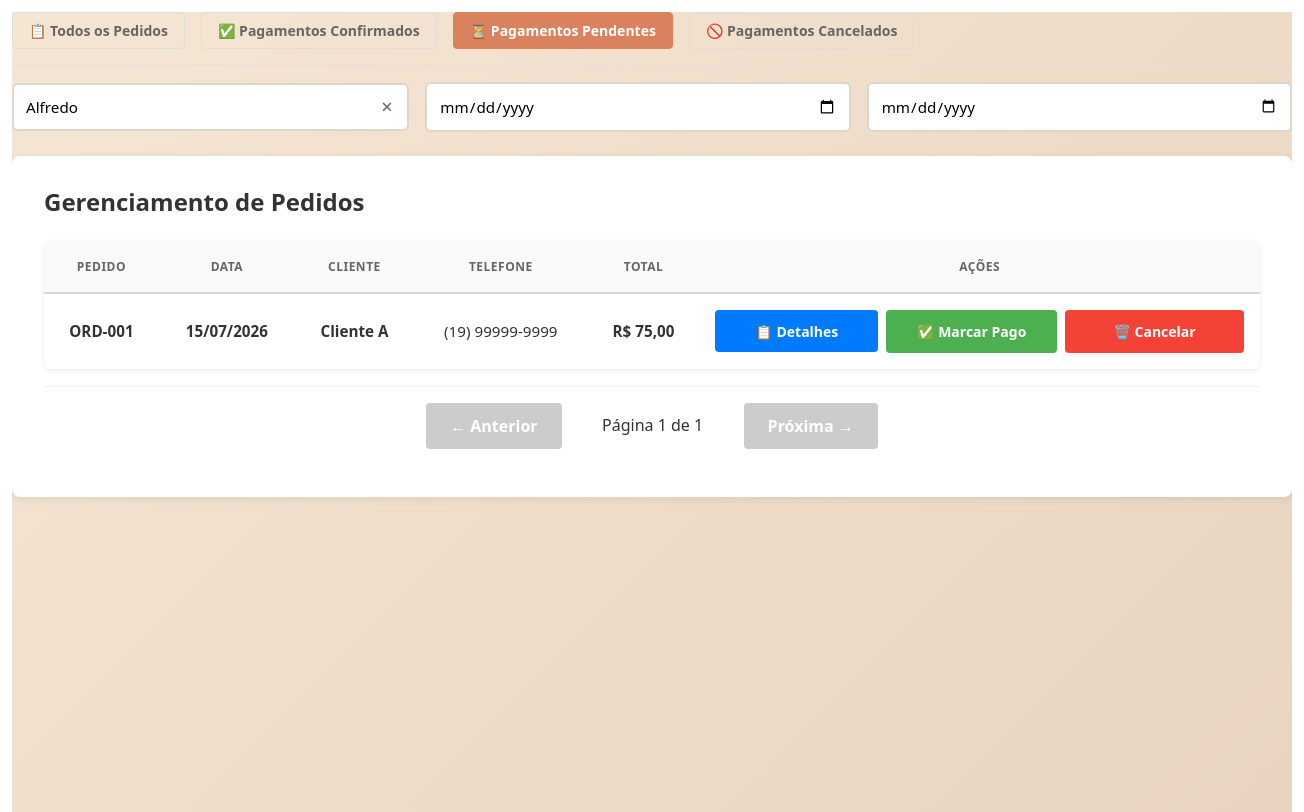
AdminOrdersPanel security and cancelled behavior › abre com pendentes e permite limpar o apelido preenchido
Expected: the field showing "Alfredo" is shown, [12,83,409,131]
Click the button named "Limpar pesquisa de cliente": (387, 107) [375,95,399,119]
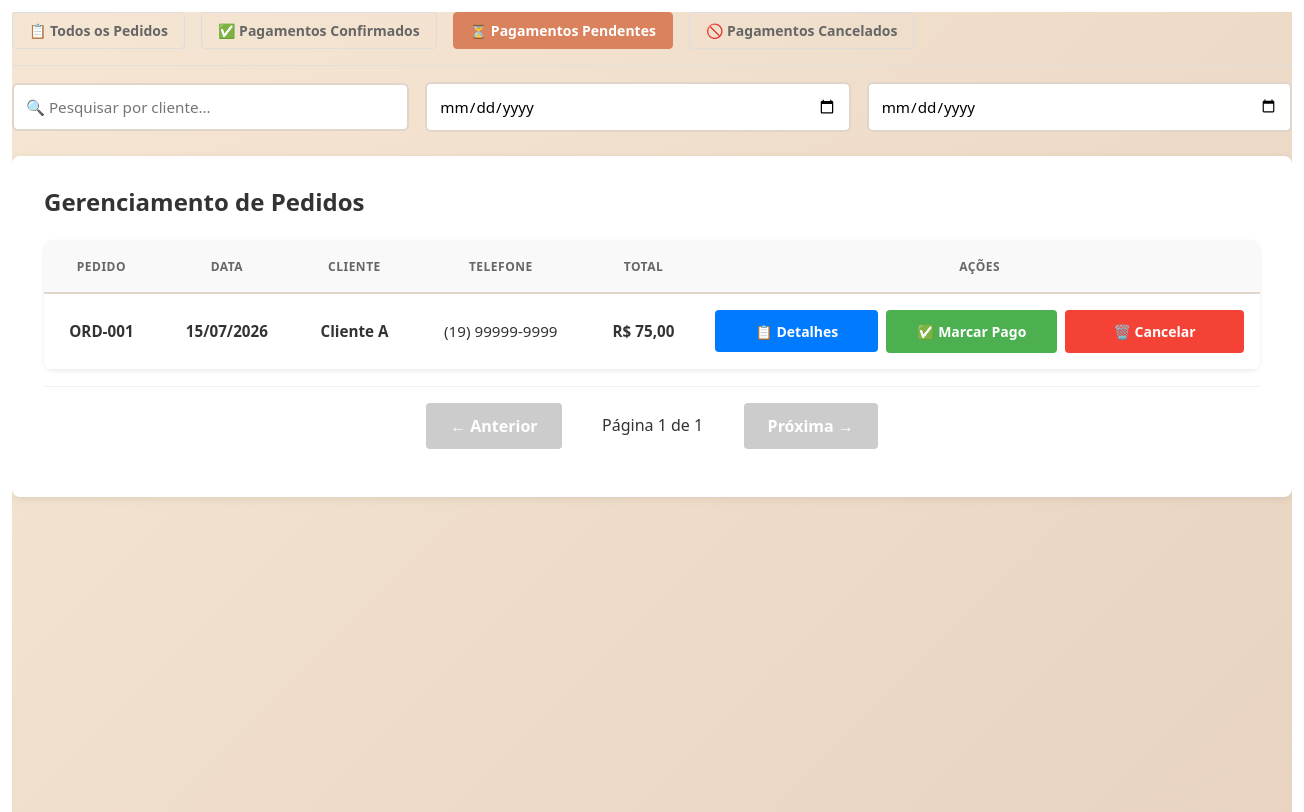
Expected: the field is empty, [12,83,409,131]
